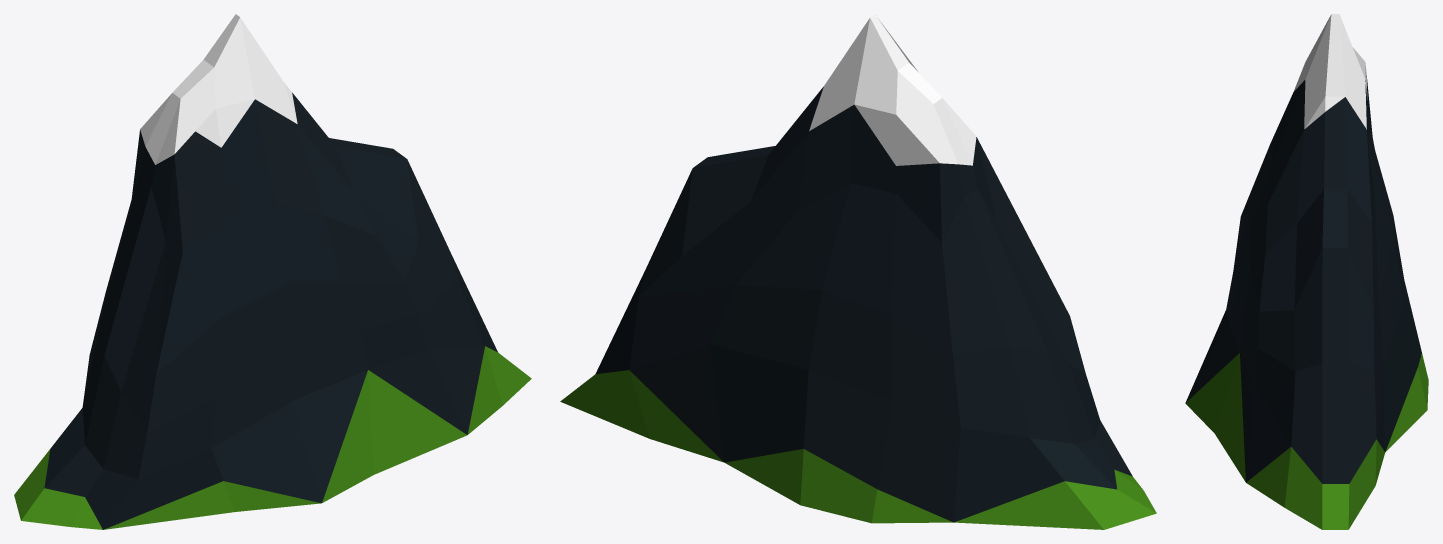
File: Mountain_01.fbx
3 views of the same model, side by side, from view 1: azimuth 30°, elevation 25°; view 2: azimuth 150°, elevation 25°; view 3: azimuth 270°, elevation 25° (orthographic). The views are drawn at different scales.
Parts seen in each view (by area): view 1: default; view 2: default; view 3: default.
Boxes of the visible parts, x1,y1,x2,y2 form: default: (14,14,531,529); default: (560,14,1156,529); default: (1185,14,1428,529).
Bounding box in the file's own units: 10.86 × 8.39 × 4.76.
